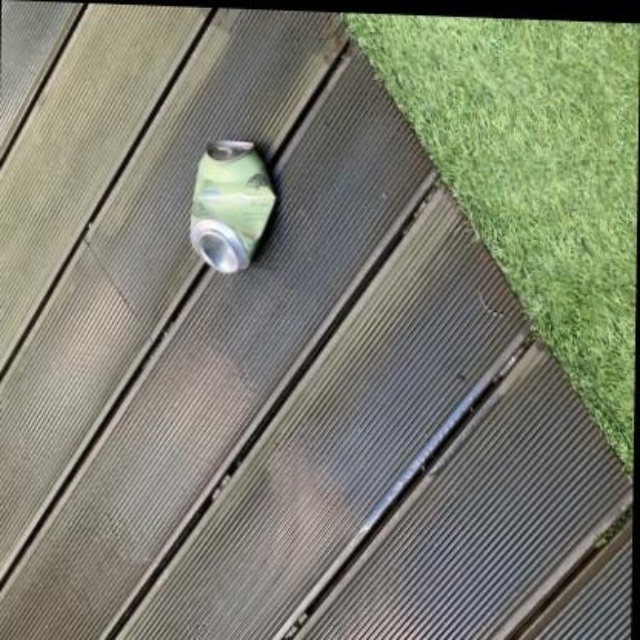trash: (191, 140, 274, 271)
